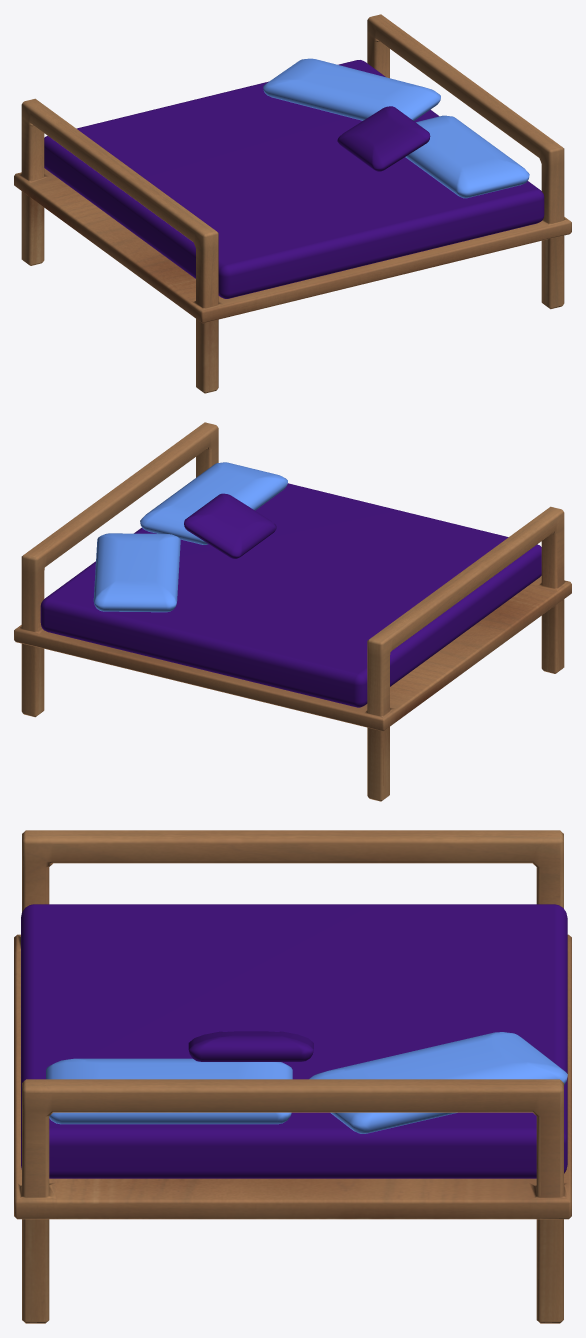
The model's file is BedGuest.fbx.
3 renders of one model, top to bottom at view 1: azimuth 30°, elevation 25°; view 2: azimuth 150°, elevation 25°; view 3: azimuth 270°, elevation 25°, orthographic. The views are drawn at different scales.
Visible parts, largest first — view 1: Mattress, Frame, Pillow, Pillow3, Pillow2; view 2: Mattress, Frame, Pillow, Pillow3, Pillow2; view 3: Mattress, Frame, Pillow, Pillow3, Pillow2.
Boxes of the visible parts, <box> form: Mattress: <box>44,60,544,298</box>; Frame: <box>14,14,571,393</box>; Pillow: <box>263,58,440,120</box>; Pillow3: <box>405,115,529,198</box>; Pillow2: <box>337,106,430,171</box>; Mattress: <box>40,483,541,707</box>; Frame: <box>14,422,571,801</box>; Pillow: <box>93,533,180,612</box>; Pillow3: <box>140,462,287,544</box>; Pillow2: <box>184,493,276,558</box>; Mattress: <box>21,904,567,1178</box>; Frame: <box>14,830,571,1323</box>; Pillow: <box>309,1032,567,1133</box>; Pillow3: <box>46,1058,292,1124</box>; Pillow2: <box>188,1031,313,1061</box>.
Size of the model in its own units: 4 by 1.65 by 3.53.
